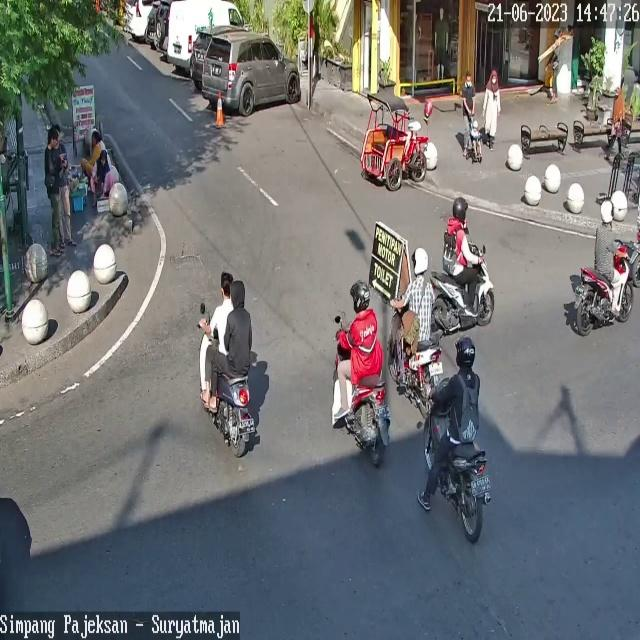bus: (424, 376, 492, 543), (197, 316, 255, 458), (333, 323, 389, 468), (390, 296, 443, 414), (429, 242, 495, 334), (572, 237, 632, 335)
motorcycle: (202, 31, 300, 116), (166, 0, 244, 67), (191, 28, 213, 82), (123, 0, 152, 36)
